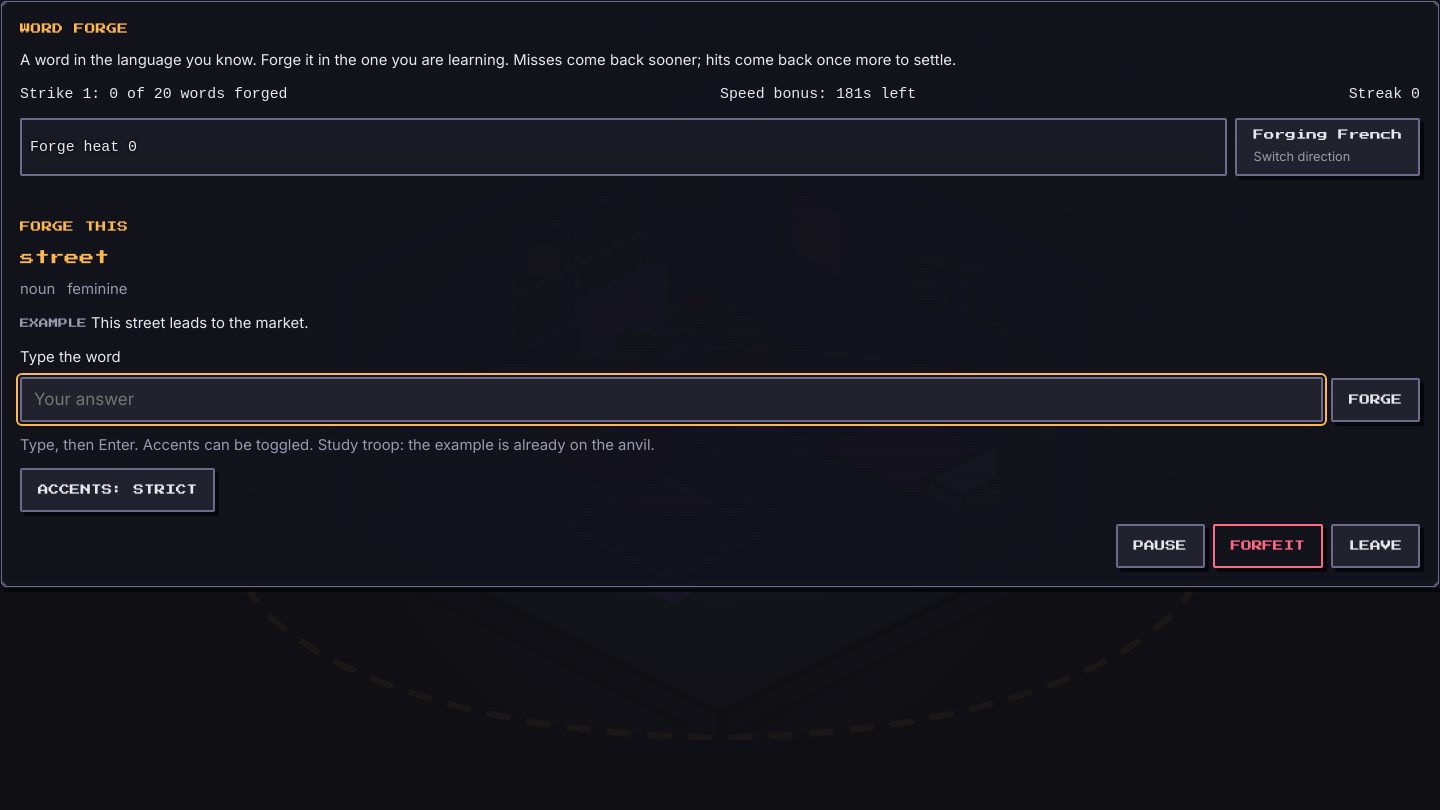
Test: Word Forge screen › focuses the typed field and shows the right word after a miss
The width and height of the screenshot is (1440, 810).
Type "zzzz" into the field with test id "word-forge-input" at (671, 399), box [20,377,1323,422]
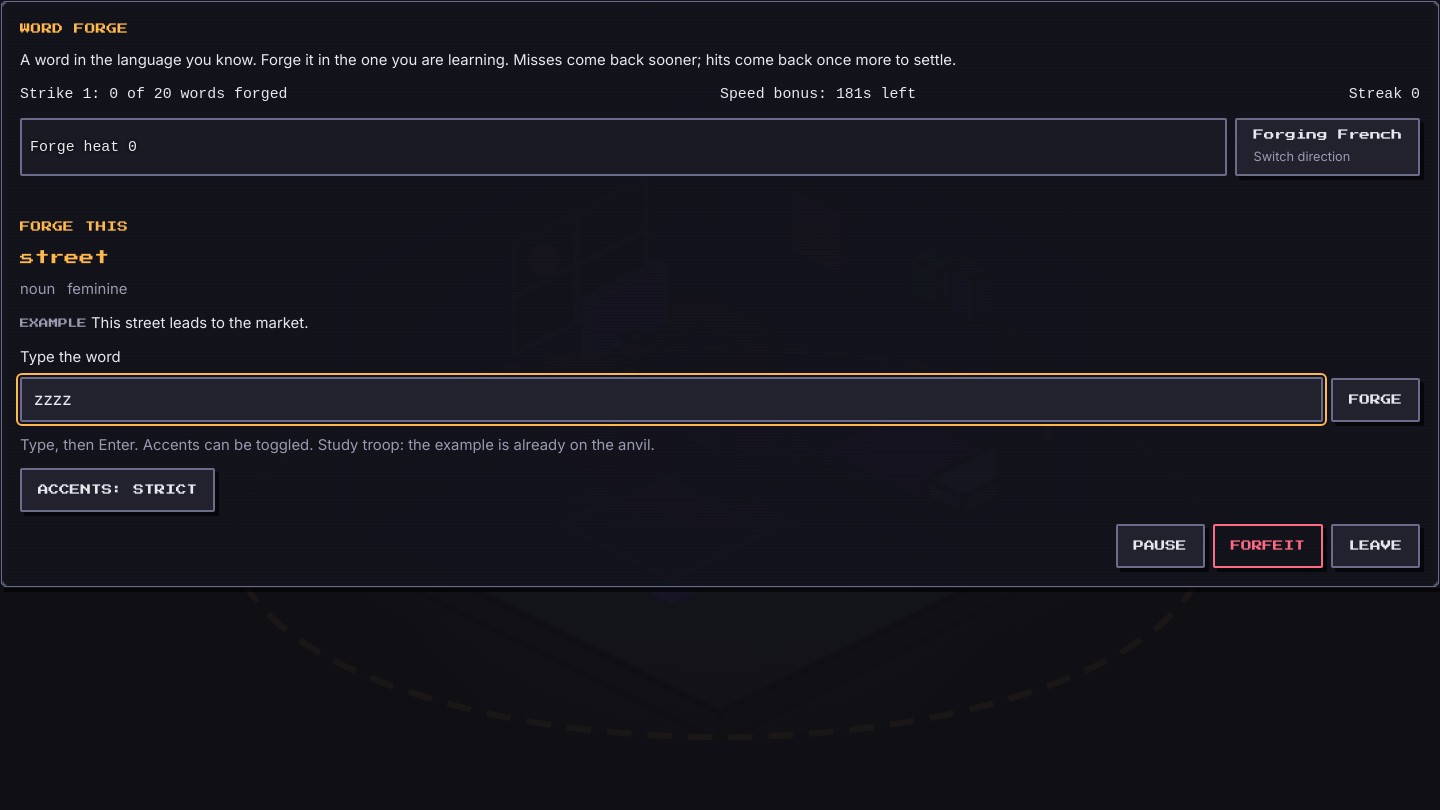
Click the button "Forge" at (1375, 400), box [1331,378,1420,422]
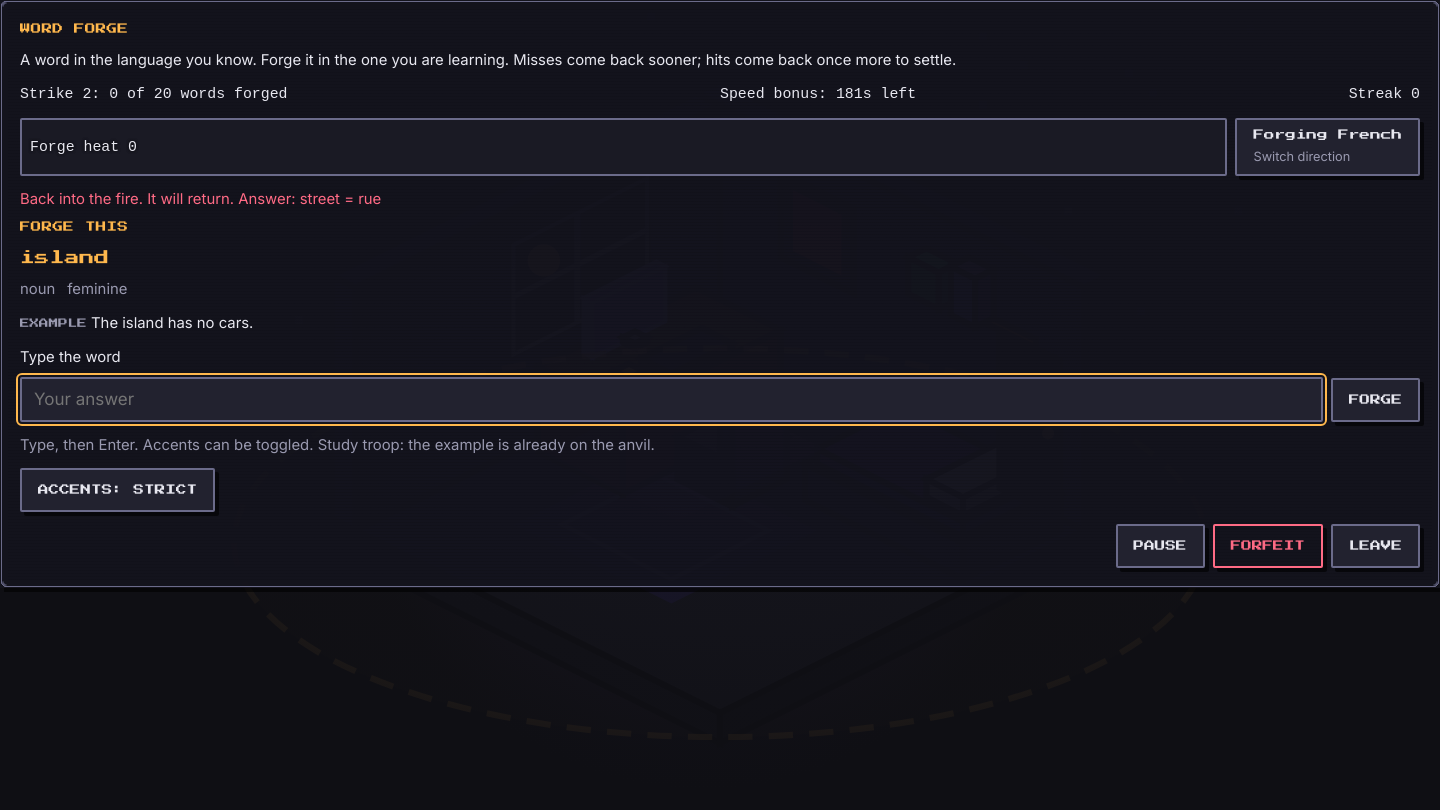
Expected: the text "Back into the fire. It will return. Answer: street = rue" is shown, [20,190,381,208]
